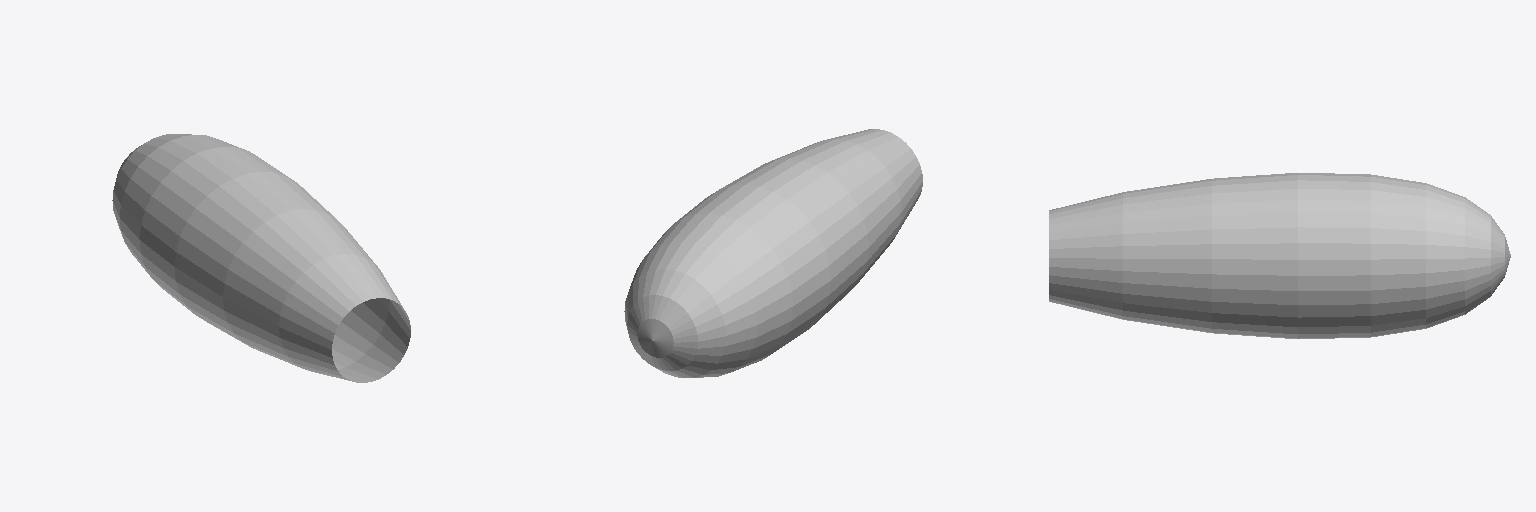
Rendered from projectile_shape_1.obj.
3 renders of one model, left to right at view 1: azimuth 30°, elevation 25°; view 2: azimuth 150°, elevation 25°; view 3: azimuth 270°, elevation 25°, orthographic.
Visible parts, largest first — view 1: Sphere; view 2: Sphere; view 3: Sphere.
Boxes of the visible parts, x1=… form: Sphere: x1=112, y1=134, x2=410, y2=382; Sphere: x1=624, y1=129, x2=922, y2=377; Sphere: x1=1049, y1=173, x2=1510, y2=338.
Size of the model in its own units: 1.55 by 1.55 by 4.29.